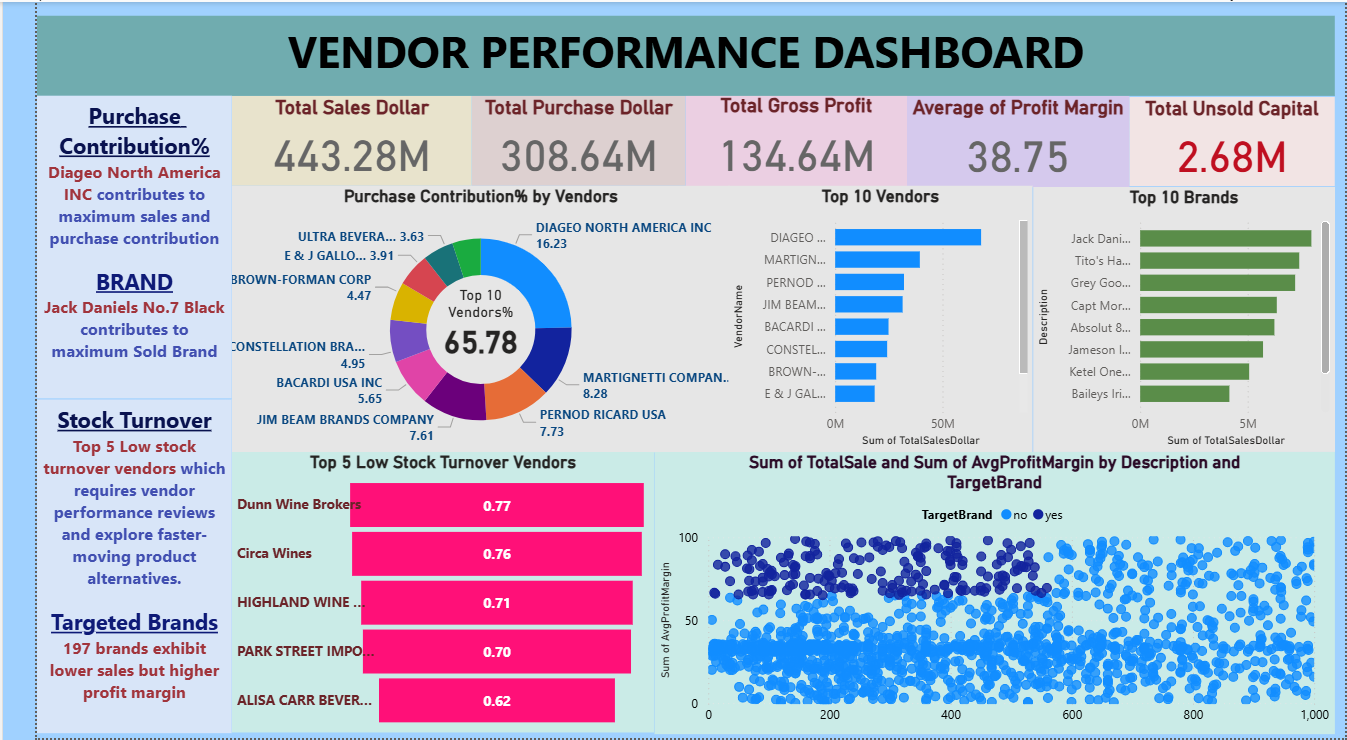

The dashboard page shown, as its layout file describes it:
{"tool":"powerbi","page":{"name":"Page 1","canvas":[1280,720],"ordinal":0},"visuals":[{"type":"card","title":"Total Sales Dollar","fields":{"Values":["Sum(Vendor_Sales_Summary_Cleaned.TotalSalesDollar)"]},"box":[190.8,91.7,234.8,88],"z":0},{"type":"card","title":"Total Purchase Dollar","fields":{"Values":["Sum(Vendor_Sales_Summary_Cleaned.TotalPurchaseDollar)"]},"box":[425.5,91.7,209.1,88],"z":1000},{"type":"card","title":"Total Gross Profit","fields":{"Values":["Sum(Vendor_Sales_Summary_Cleaned.GrossProfit)"]},"box":[634.7,90.5,216.4,89.3],"z":2000},{"type":"card","title":"Average of Profit Margin","fields":{"Values":["Avg(Vendor_Sales_Summary_Cleaned.ProfitMargin)"]},"box":[851.1,91.7,217.7,89.3],"z":3000},{"type":"card","title":"Total Unsold Capital","fields":{"Values":["Sum(Vendor_Sales_Summary_Cleaned.UnsoldCapital)"]},"box":[1068.8,92.9,200.5,86.8],"z":4000},{"type":"donutChart","title":"Purchase Contribution% by Vendors","fields":{"Category":["PurchaseContribution.VendorName"],"Y":["Sum(PurchaseContribution.PurchaseContribution%)"]},"box":[190.7,179.8,487.1,260.7],"z":5000},{"type":"barChart","title":"Top 10 Vendors","fields":{"Category":["Vendor_Sales_Summary_Cleaned.VendorName"],"Y":["Sum(Vendor_Sales_Summary_Cleaned.TotalSalesDollar)"]},"box":[676.5,179.8,297.8,260.7],"z":6000},{"type":"barChart","title":"Top 10 Brands","fields":{"Y":["Sum(Vendor_Sales_Summary_Cleaned.TotalSalesDollar)"],"Category":["Vendor_Sales_Summary_Cleaned.Description"]},"box":[974.3,181.1,295,259.3],"z":7000},{"type":"funnel","title":"Top 5 Low Stock Turnover Vendors","fields":{"Category":["LowStockTurnover.VendorName"],"Y":["Sum(LowStockTurnover.Avg StockTurnOver)"]},"box":[190.7,440.5,413,274.4],"z":8000},{"type":"scatterChart","fields":{"Category":["BrandPerformance.Description"],"X":["Sum(BrandPerformance.TotalSale)"],"Y":["Sum(BrandPerformance.AvgProfitMargin)"],"Series":["BrandPerformance.TargetBrand"]},"box":[603.8,440.5,665.5,275.8],"z":9000},{"type":"card","title":"Top 10 Vendors%","fields":{"Values":["Sum(PurchaseContribution.PurchaseContribution%)"]},"box":[379.1,277.6,110.1,72.1],"z":10000},{"type":"textbox","box":[0,13.5,1269.3,78.3],"z":11000},{"type":"textbox","box":[0,91.9,190.7,296.4],"z":12000},{"type":"textbox","box":[0,388.3,190.7,326.6],"z":13000}]}

Visuals, with their boxes in screenshot pixels (x1, y1, x2, y2), scaled from the page's 1280x720 canvas onto the 1347x740 screenshot:
"Total Sales Dollar" card: box=[201, 94, 448, 185]
"Total Purchase Dollar" card: box=[448, 94, 668, 185]
"Total Gross Profit" card: box=[668, 93, 896, 185]
"Average of Profit Margin" card: box=[896, 94, 1125, 186]
"Total Unsold Capital" card: box=[1125, 95, 1336, 185]
"Purchase Contribution% by Vendors" donutChart: box=[201, 185, 713, 453]
"Top 10 Vendors" barChart: box=[712, 185, 1025, 453]
"Top 10 Brands" barChart: box=[1025, 186, 1336, 453]
"Top 5 Low Stock Turnover Vendors" funnel: box=[201, 453, 635, 735]
scatterChart - BrandPerformance.Description x Sum(BrandPerformance.TotalSale): box=[635, 453, 1336, 736]
"Top 10 Vendors%" card: box=[399, 285, 515, 359]
textbox: box=[0, 14, 1336, 94]
textbox: box=[0, 94, 201, 399]
textbox: box=[0, 399, 201, 735]
